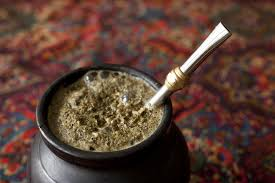guampa: (16, 17, 226, 180)
